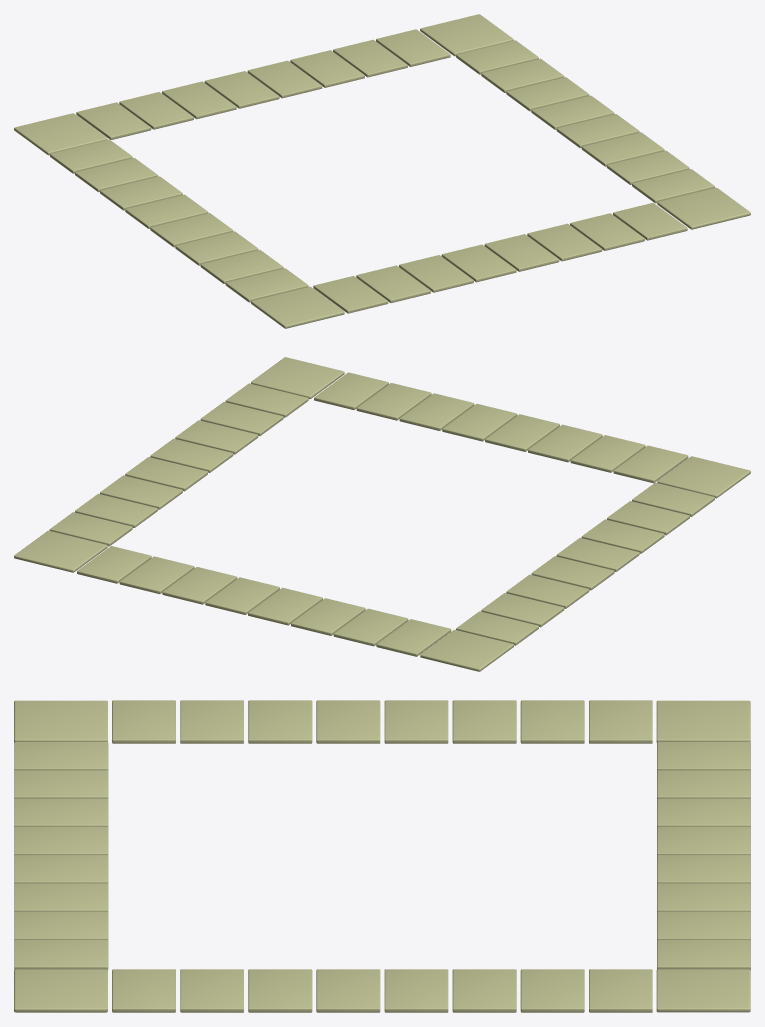
The model's file is TTEN 1.fbx.
3 views of the same model, one above another, from view 1: azimuth 30°, elevation 25°; view 2: azimuth 150°, elevation 25°; view 3: azimuth 270°, elevation 25° (orthographic). The views are drawn at different scales.
Visible parts, largest first — view 1: Cube, Cube.020, Cube.009, Cube.019, Cube.030, Cube.011, Cube.014, Cube.015, Cube.012, Cube.032, Cube.033, Cube.034 (+24 smaller); view 2: Cube.009, Cube.019, Cube, Cube.020, Cube.030, Cube.011, Cube.012, Cube.031, Cube.035, Cube.016, Cube.017, Cube.036 (+24 smaller); view 3: Cube.019, Cube.020, Cube.009, Cube, Cube.003, Cube.006, Cube.007, Cube.023, Cube.026, Cube.027, Cube.004, Cube.005 (+24 smaller).
Part boxes in pixels (<box>): Cube: <box>251,286,344,328</box>; Cube.020: <box>657,187,750,229</box>; Cube.009: <box>14,113,107,155</box>; Cube.019: <box>420,14,513,56</box>; Cube.030: <box>313,276,388,313</box>; Cube.011: <box>76,102,151,139</box>; Cube.014: <box>204,71,279,108</box>; Cube.015: <box>247,60,322,98</box>; Cube.012: <box>119,92,193,129</box>; Cube.032: <box>399,255,473,292</box>; Cube.033: <box>441,244,516,282</box>; Cube.034: <box>484,234,559,271</box>; Cube.009: <box>420,629,513,671</box>; Cube.019: <box>14,530,107,572</box>; Cube: <box>657,456,750,498</box>; Cube.020: <box>251,357,344,399</box>; Cube.030: <box>613,445,688,483</box>; Cube.011: <box>376,619,451,656</box>; Cube.012: <box>333,608,408,646</box>; Cube.031: <box>570,435,645,472</box>; Cube.035: <box>399,393,474,430</box>; Cube.016: <box>162,567,237,604</box>; Cube.017: <box>119,556,194,594</box>; Cube.036: <box>356,383,431,420</box>; Cube.019: <box>656,969,750,1012</box>; Cube.020: <box>14,969,107,1012</box>; Cube.009: <box>656,700,750,742</box>; Cube: <box>14,700,107,742</box>; Cube.003: <box>248,700,312,743</box>; Cube.006: <box>452,700,516,743</box>; Cube.007: <box>520,700,584,743</box>; Cube.023: <box>248,969,312,1012</box>; Cube.026: <box>452,969,516,1012</box>; Cube.027: <box>520,969,584,1012</box>; Cube.004: <box>316,700,380,743</box>; Cube.005: <box>384,700,448,743</box>.
Size of the model in its own units: 2286 by 15.54 by 2307.
